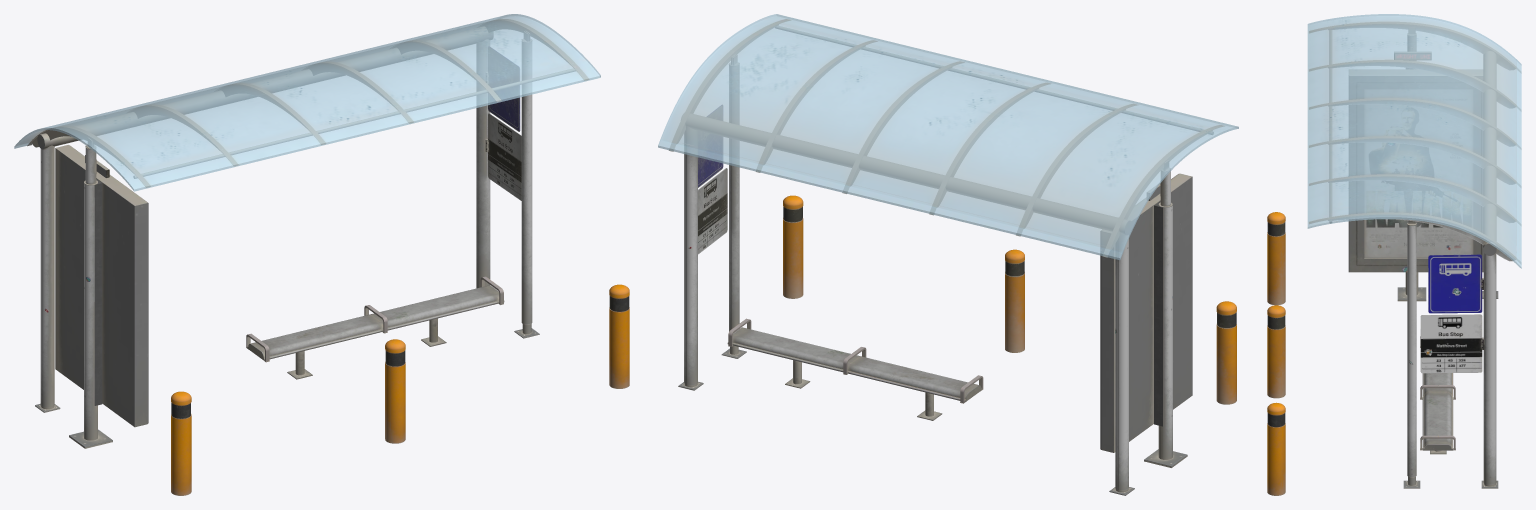
Rendered from bus-shelter.glb.
The picture shows the model from 3 angles, left to right: view 1: azimuth 30°, elevation 25°; view 2: azimuth 150°, elevation 25°; view 3: azimuth 270°, elevation 25°; orthographic projection. The views are drawn at different scales.
Visible parts, largest first — view 1: Bustop_roof_1, Bustop_posters_3, Busstop_legs_0, Bustop_Bench_2, Bustop_roof.001_4; view 2: Bustop_roof_1, Bustop_posters_3, Busstop_legs_0, Bustop_Bench_2, Bustop_roof.001_4; view 3: Bustop_roof_1, Bustop_posters_3, Bustop_roof.001_4, Bustop_Bench_2, Busstop_legs_0.
Boxes of the visible parts, x1=… form: Bustop_roof_1: x1=14, y1=14, x2=600, y2=191; Bustop_posters_3: x1=55, y1=46, x2=521, y2=427; Busstop_legs_0: x1=35, y1=31, x2=539, y2=448; Bustop_Bench_2: x1=171, y1=276, x2=629, y2=495; Bustop_roof.001_4: x1=27, y1=19, x2=588, y2=187; Bustop_roof_1: x1=658, y1=14, x2=1238, y2=260; Bustop_posters_3: x1=698, y1=105, x2=1192, y2=452; Busstop_legs_0: x1=678, y1=54, x2=1187, y2=495; Bustop_Bench_2: x1=727, y1=195, x2=1236, y2=420; Bustop_roof.001_4: x1=669, y1=19, x2=1223, y2=257; Bustop_roof_1: x1=1307, y1=14, x2=1521, y2=268; Bustop_posters_3: x1=1348, y1=52, x2=1484, y2=373; Bustop_roof.001_4: x1=1309, y1=22, x2=1521, y2=263; Bustop_Bench_2: x1=1267, y1=212, x2=1455, y2=495; Busstop_legs_0: x1=1397, y1=27, x2=1498, y2=488.
Size of the model in its own units: 4.84 by 2.99 by 2.51.
Materials: 4 (4 with a texture image).
